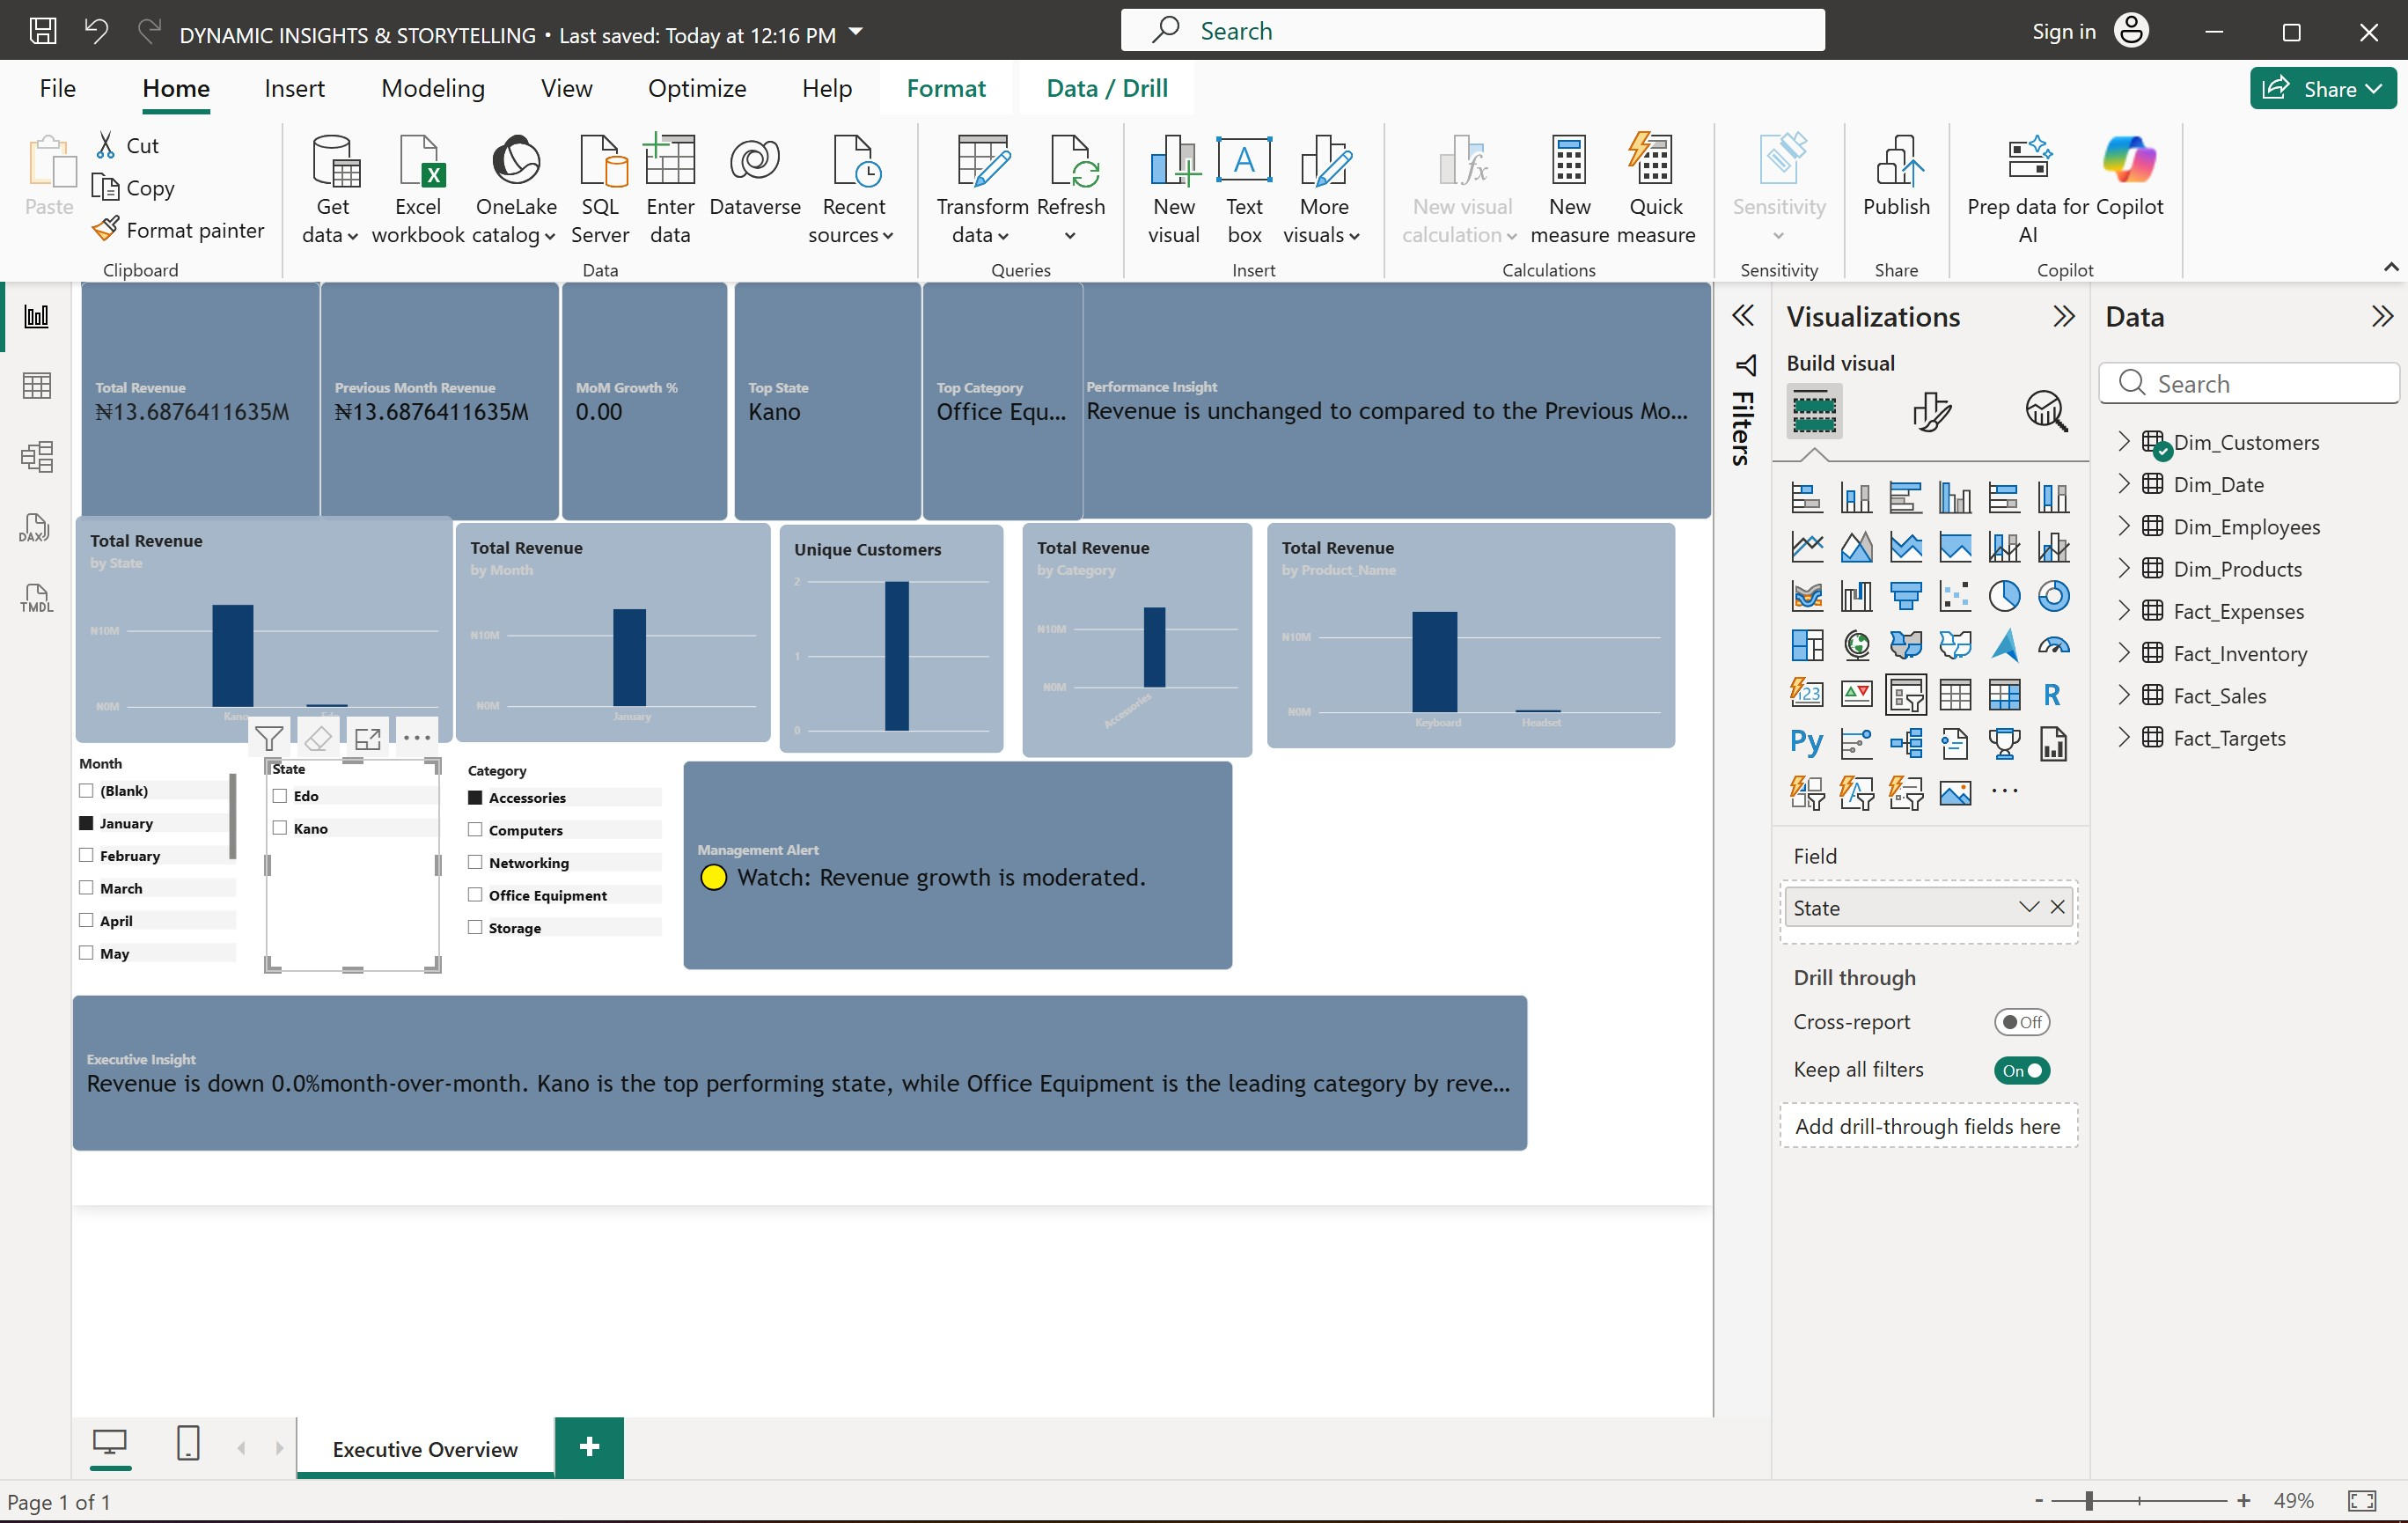

Layout of this report page (visuals, bound fields, positions):
{"tool":"powerbi","page":{"name":"Executive Overview","canvas":[1920,1080],"ordinal":0},"visuals":[{"type":"cardVisual","fields":{"Data":["Dim_Customers.Total Revenue"]},"box":[10,0,280,280],"z":0},{"type":"cardVisual","fields":{"Data":["Dim_Customers.Previous Month Revenue"]},"box":[290.5,0,280,280],"z":1},{"type":"cardVisual","fields":{"Data":["Dim_Customers.MoM Growth %"]},"box":[572.7,0,195.7,280.2],"z":2},{"type":"cardVisual","fields":{"Data":["Dim_Customers.Performance Insight"]},"box":[1193.3,0,718.7,279],"z":3},{"type":"cardVisual","fields":{"Data":["Dim_Customers.Top State"]},"box":[774.6,0,220.4,280.2],"z":4},{"type":"cardVisual","fields":{"Data":["Dim_Customers.Top Category"]},"box":[995.6,0,189.5,280.2],"z":5},{"type":"cardVisual","fields":{"Data":["Dim_Customers.Executive Insight"]},"box":[0,835.3,1704.5,183.5],"z":6},{"type":"clusteredColumnChart","fields":{"Y":["Dim_Customers.Unique Customers"]},"box":[828.2,285,261.8,267.2],"z":7},{"type":"columnChart","fields":{"Category":["Dim_Customers.Join_Date.Variation.Date Hierarchy.Month"],"Y":["Dim_Customers.Total Revenue"]},"box":[448.8,283.2,368.7,256.5],"z":8},{"type":"columnChart","fields":{"Category":["Dim_Customers.State"],"Y":["Dim_Customers.Total Revenue"]},"box":[3.6,274.3,441.7,265.4],"z":9},{"type":"columnChart","fields":{"Category":["Dim_Products.Category"],"Y":["Dim_Customers.Total Revenue"]},"box":[1113.2,281.4,268.9,274.3],"z":10},{"type":"columnChart","fields":{"Category":["Dim_Products.Product_Name"],"Y":["Dim_Customers.Total Revenue"]},"box":[1398.1,281.4,477.3,263.6],"z":11},{"type":"slicer","fields":{"Values":["Dim_Customers.Join_Date.Variation.Date Hierarchy.Month"]},"box":[0,552.1,192,246],"z":12},{"type":"slicer","fields":{"Values":["Dim_Customers.State"]},"box":[226.2,557.5,204.8,249.4],"z":13},{"type":"slicer","fields":{"Values":["Dim_Products.Category"]},"box":[456,561,235.1,245.8],"z":14},{"type":"cardVisual","fields":{"Data":["Dim_Customers.Management Alert"]},"box":[714.2,561,644.8,245.2],"z":15}]}

Visuals, with their boxes on the page's 1920x1080 design canvas (x1, y1, x2, y2). These are canvas units, not pixel positions in the 2408x1523 screenshot, which may show the page scaled, cropped or inside an application window:
cardVisual - Dim_Customers.Total Revenue: x1=10 y1=0 x2=290 y2=280
cardVisual - Dim_Customers.Previous Month Revenue: x1=290 y1=0 x2=570 y2=280
cardVisual - Dim_Customers.MoM Growth %: x1=573 y1=0 x2=768 y2=280
cardVisual - Dim_Customers.Performance Insight: x1=1193 y1=0 x2=1912 y2=279
cardVisual - Dim_Customers.Top State: x1=775 y1=0 x2=995 y2=280
cardVisual - Dim_Customers.Top Category: x1=996 y1=0 x2=1185 y2=280
cardVisual - Dim_Customers.Executive Insight: x1=0 y1=835 x2=1704 y2=1019
clusteredColumnChart - Dim_Customers.Unique Customers: x1=828 y1=285 x2=1090 y2=552
columnChart - Dim_Customers.Join_Date.Variation.Date Hierarchy.Month x Dim_Customers.Total Revenue: x1=449 y1=283 x2=818 y2=540
columnChart - Dim_Customers.State x Dim_Customers.Total Revenue: x1=4 y1=274 x2=445 y2=540
columnChart - Dim_Products.Category x Dim_Customers.Total Revenue: x1=1113 y1=281 x2=1382 y2=556
columnChart - Dim_Products.Product_Name x Dim_Customers.Total Revenue: x1=1398 y1=281 x2=1875 y2=545
slicer - Dim_Customers.Join_Date.Variation.Date Hierarchy.Month: x1=0 y1=552 x2=192 y2=798
slicer - Dim_Customers.State: x1=226 y1=558 x2=431 y2=807
slicer - Dim_Products.Category: x1=456 y1=561 x2=691 y2=807
cardVisual - Dim_Customers.Management Alert: x1=714 y1=561 x2=1359 y2=806
